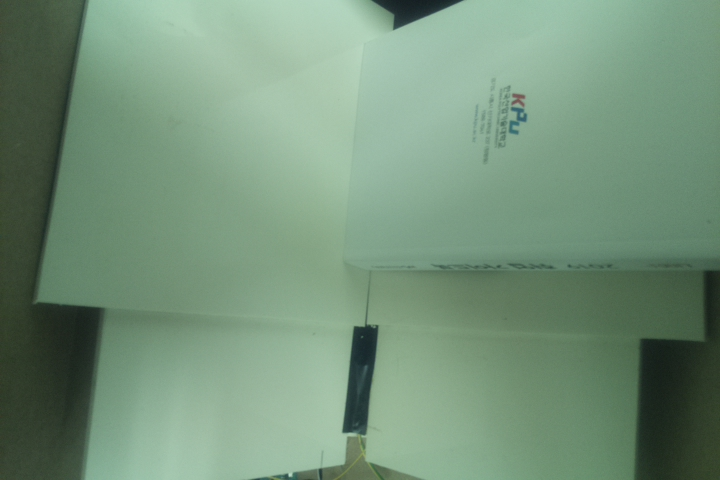book: (343, 1, 720, 276)
